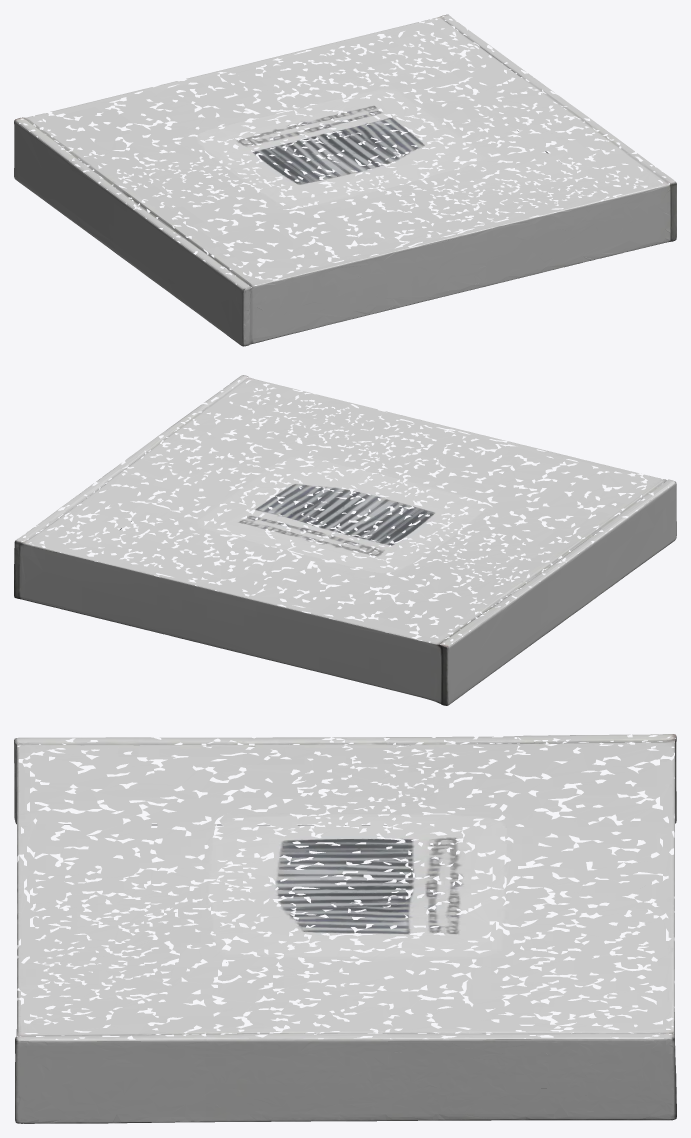
3 views of the same model, one above another, from view 1: azimuth 30°, elevation 25°; view 2: azimuth 150°, elevation 25°; view 3: azimuth 270°, elevation 25° (orthographic). The views are drawn at different scales.
Visible parts, largest first — view 1: geometry_0; view 2: geometry_0; view 3: geometry_0.
Part boxes in pixels (box(x1,y1,x2,y2)): geometry_0: box(14, 14, 676, 346); geometry_0: box(14, 375, 676, 705); geometry_0: box(14, 734, 676, 1123).
Size of the model in its own units: 0.999 by 0.1337 by 0.9154.
Materials: 1 (1 with a texture image).
